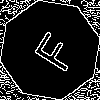F: (25, 25, 80, 75)
